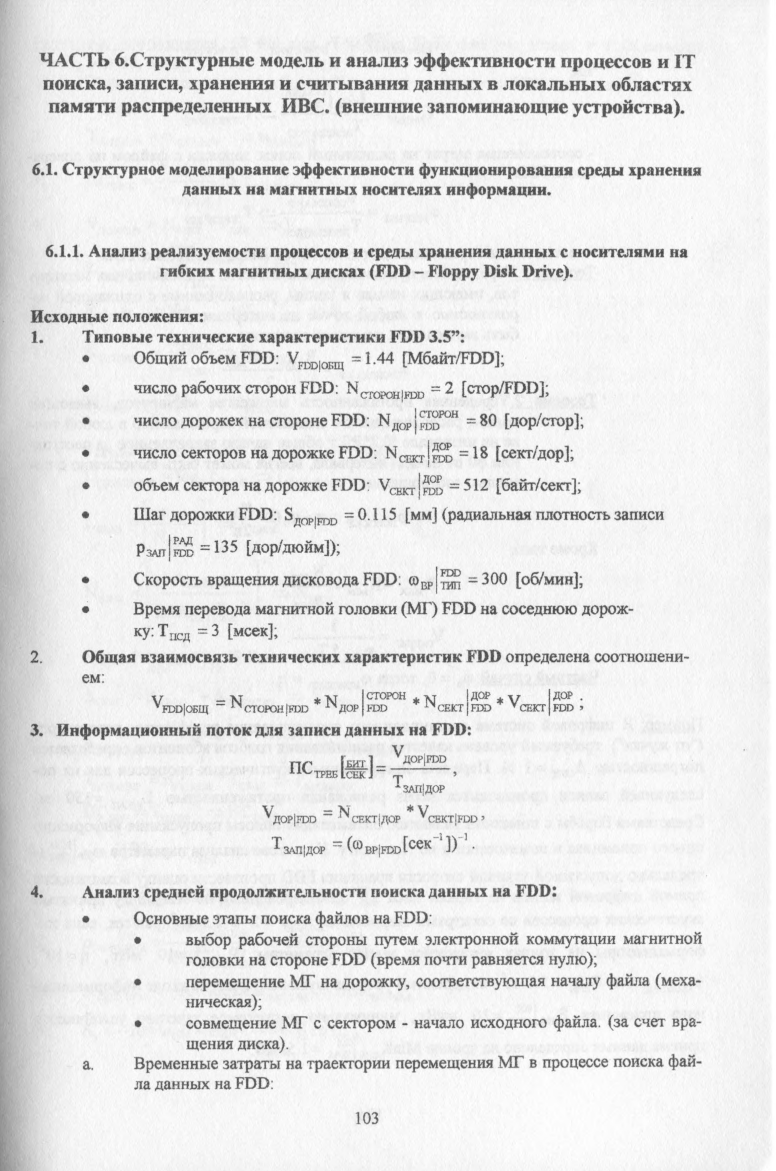V.дор.FDD: (261, 802, 318, 828), (390, 743, 448, 765)
